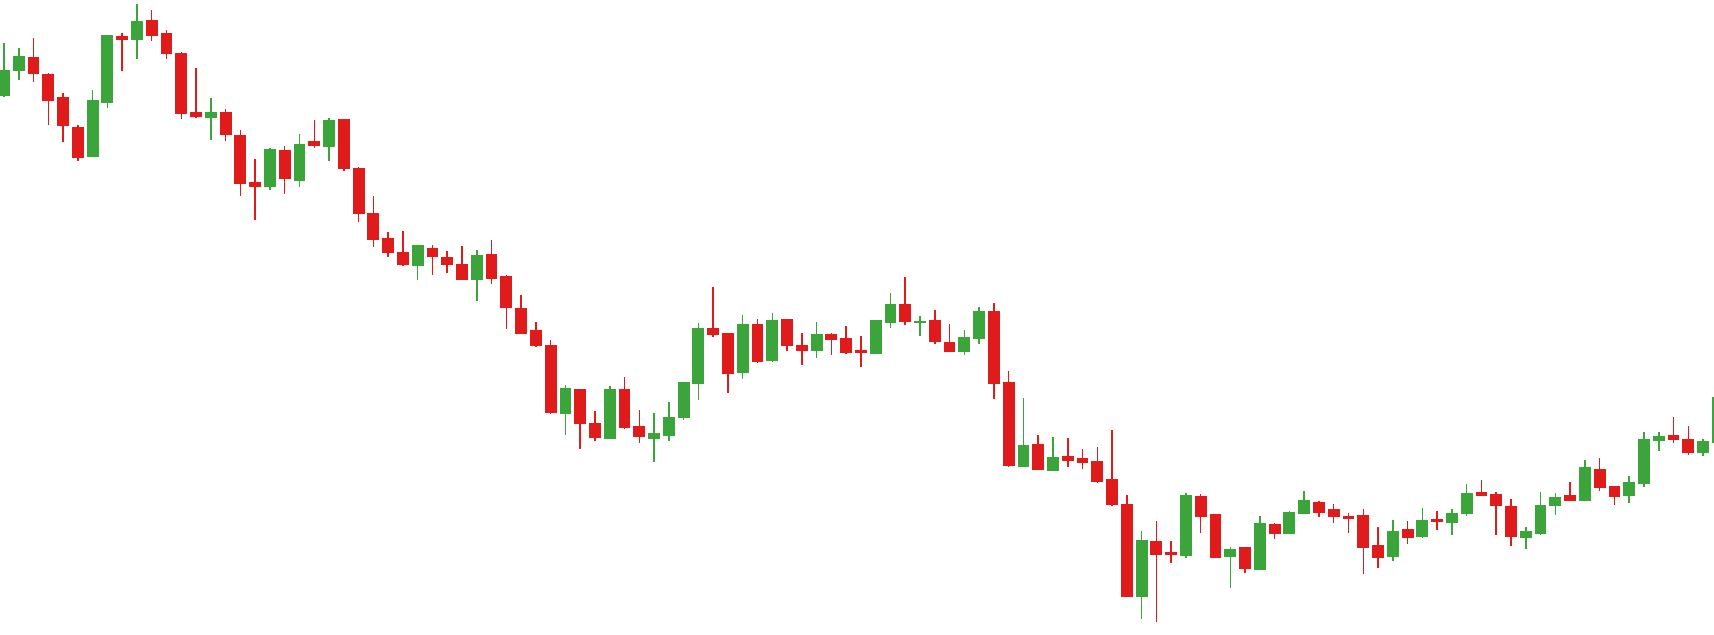sell: (707, 277, 915, 346)
